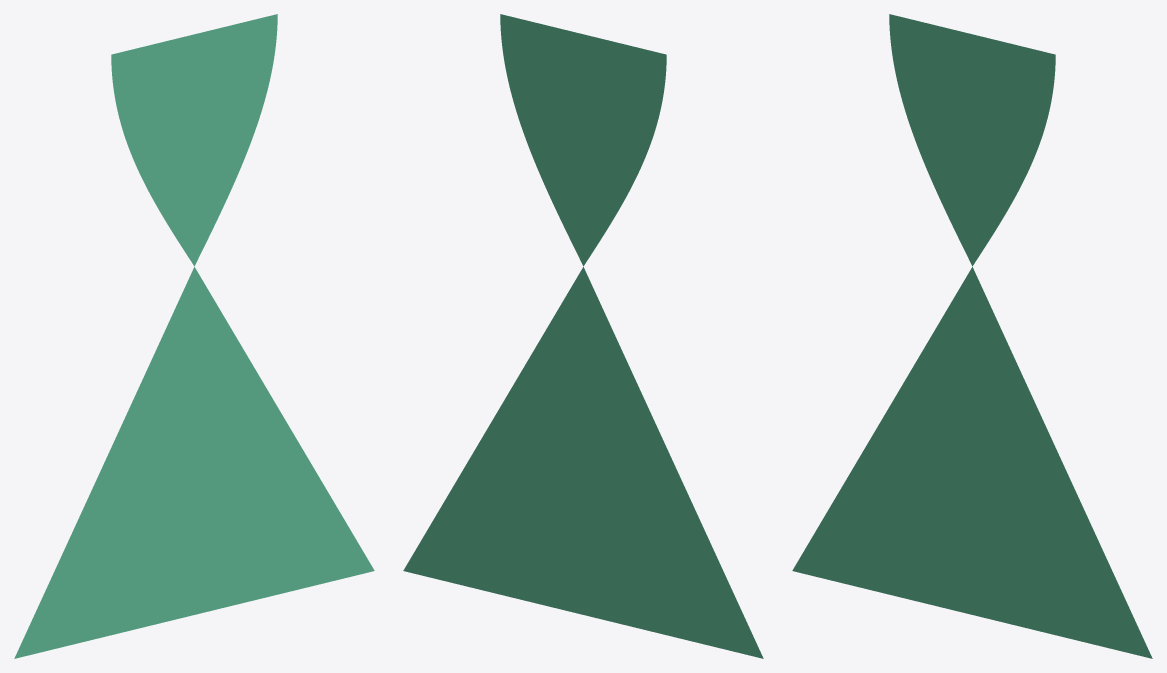
Rendered from head_node.glb.
3 views of the same model, side by side, from view 1: azimuth 30°, elevation 25°; view 2: azimuth 150°, elevation 25°; view 3: azimuth 330°, elevation 25° (orthographic).
Parts seen in each view (by area): view 1: body, face; view 2: body, face; view 3: body, face.
Boxes of the visible parts, x1,y1,x2,y2 form: body: (14, 267, 374, 658); face: (111, 14, 277, 266); body: (403, 267, 763, 658); face: (500, 14, 666, 266); body: (792, 267, 1152, 658); face: (889, 14, 1055, 266).
Size of the model in its own units: 1.3 by 2 by 5.96e-09.
